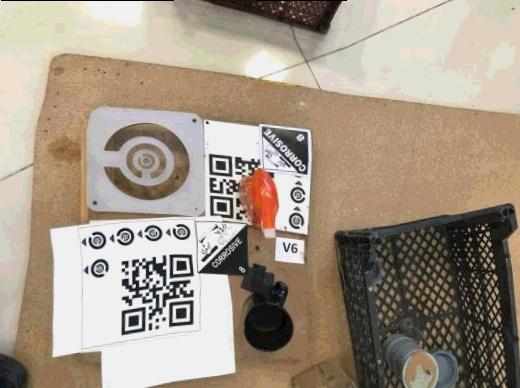corrosive: (194, 220, 251, 279), (258, 123, 310, 177)
